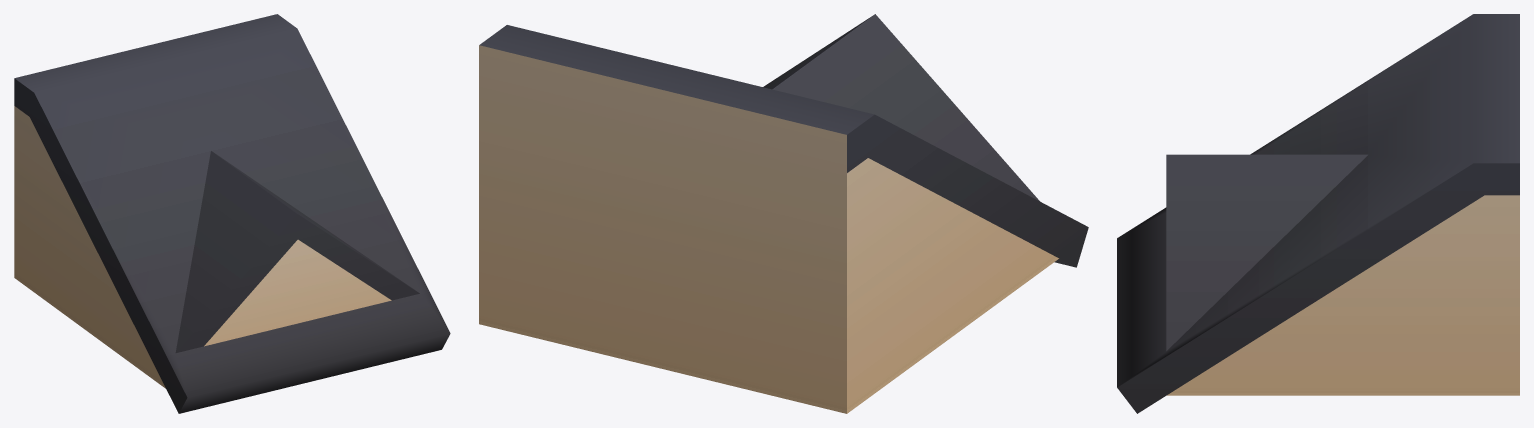
File: roof-slanted-detail.glb
3 renders of one model, left to right at view 1: azimuth 30°, elevation 25°; view 2: azimuth 150°, elevation 25°; view 3: azimuth 270°, elevation 25°, orthographic. The views are drawn at different scales.
Parts seen in each view (by area): view 1: roof-slanted-detail; view 2: roof-slanted-detail; view 3: roof-slanted-detail.
Boxes of the visible parts, x1,y1,x2,y2 form: roof-slanted-detail: [14, 14, 450, 413]; roof-slanted-detail: [479, 14, 1088, 413]; roof-slanted-detail: [1117, 14, 1519, 413].
Size of the model in its own units: 1 by 0.782 by 1.14.
Materials: 1 (1 with a texture image).
